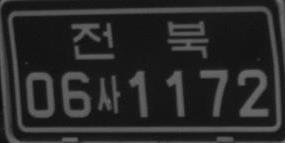0: (24, 71, 56, 118)
1: (161, 69, 192, 116), (125, 70, 154, 117)
2: (237, 68, 269, 117)
6: (60, 70, 92, 119)
7: (198, 68, 229, 117)
사: (97, 74, 120, 114)
전북_D: (70, 18, 208, 60)
